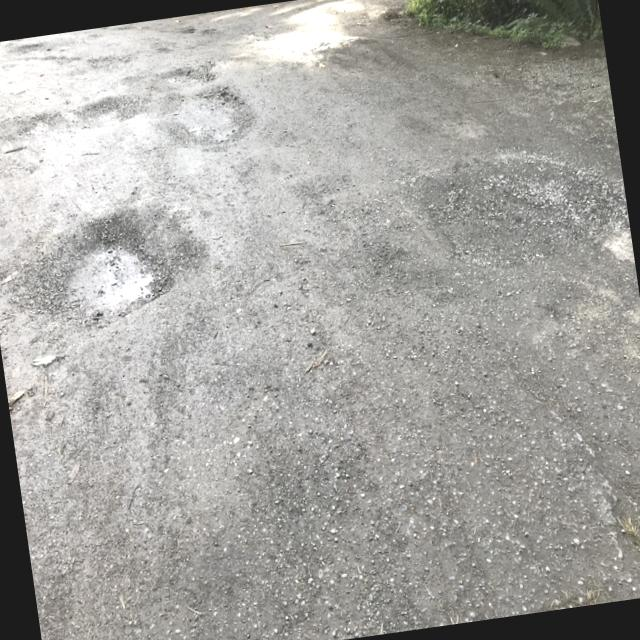bad-road: (24, 206, 177, 340), (169, 82, 257, 154), (158, 61, 216, 91)
